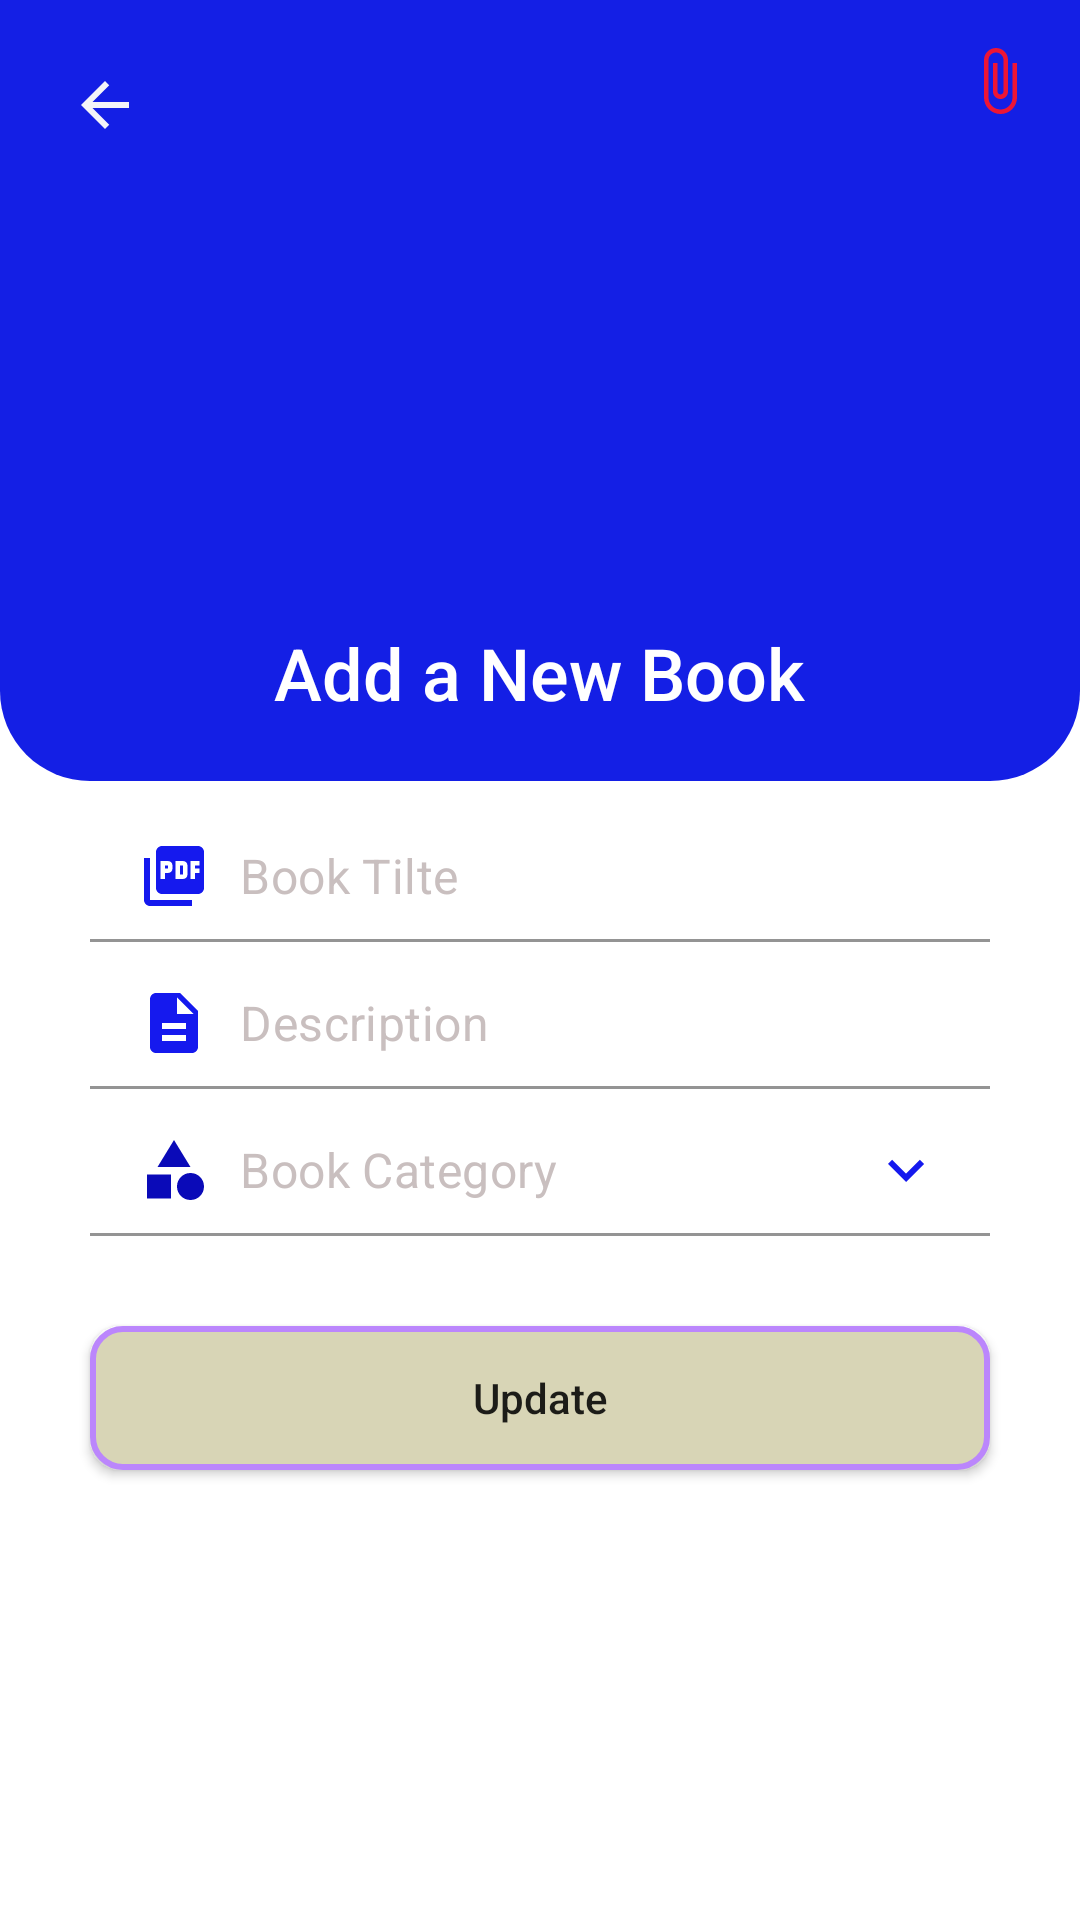

Screen size 1080×1920. Icon name, then its center in pixels as (x=x, y=y):
arrow back: (x=105, y=105)
attach file: (x=1000, y=81)
